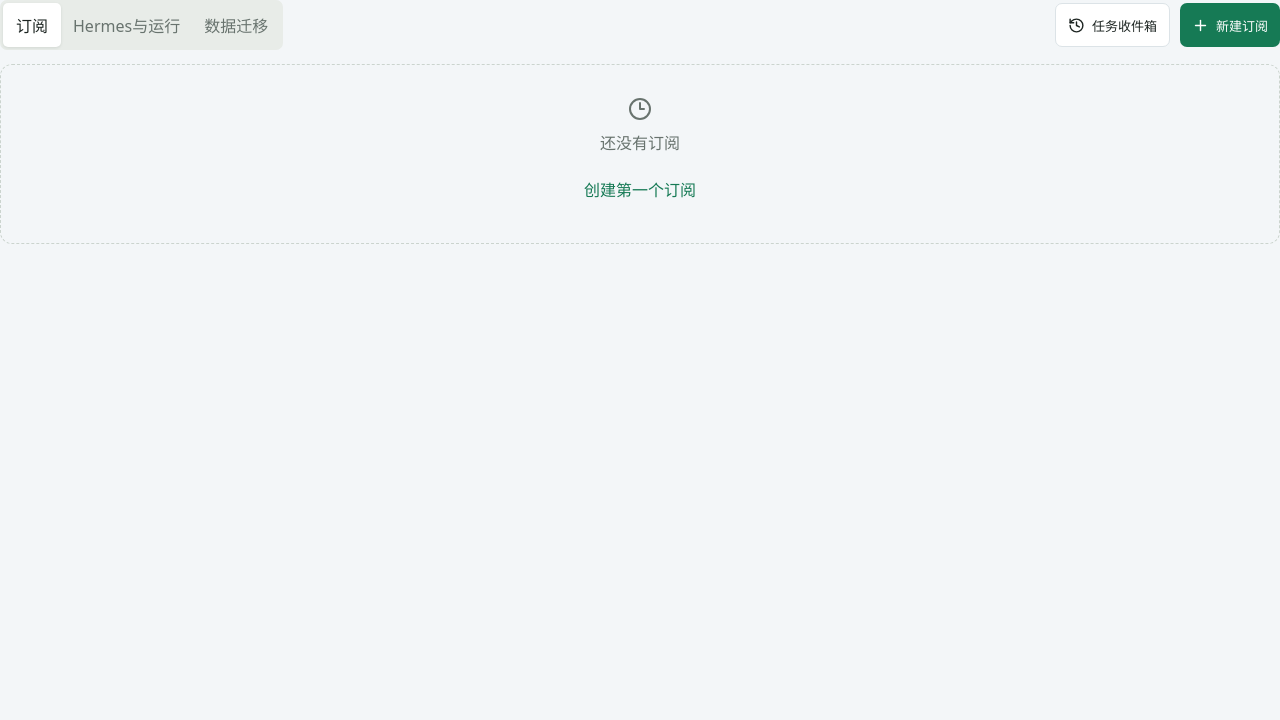
it: Hermes可以生成可编辑订阅草稿
Expected: the text "还没有订阅" is shown, [600, 131, 680, 157]
Click the button "新建订阅" at (1230, 25), box [1180, 3, 1279, 47]
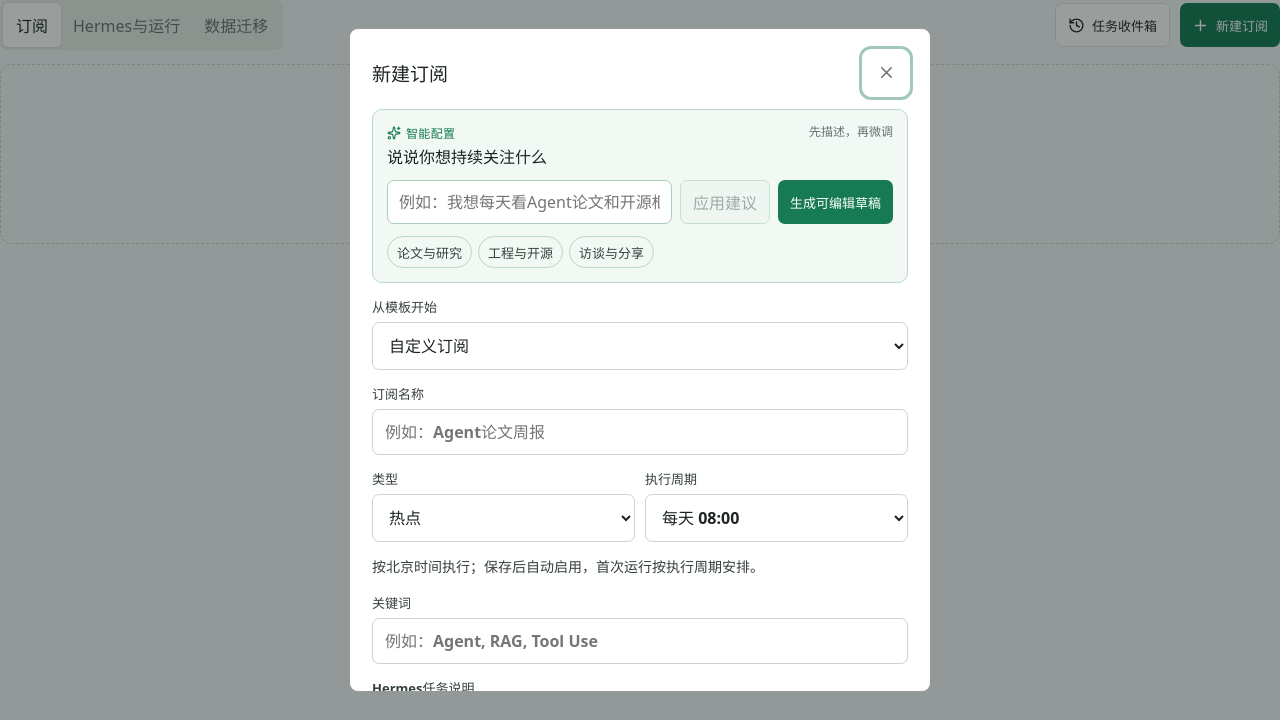
Type "关注Agent论文" into the field named "描述关注目标" at (530, 202), box [387, 180, 672, 224]
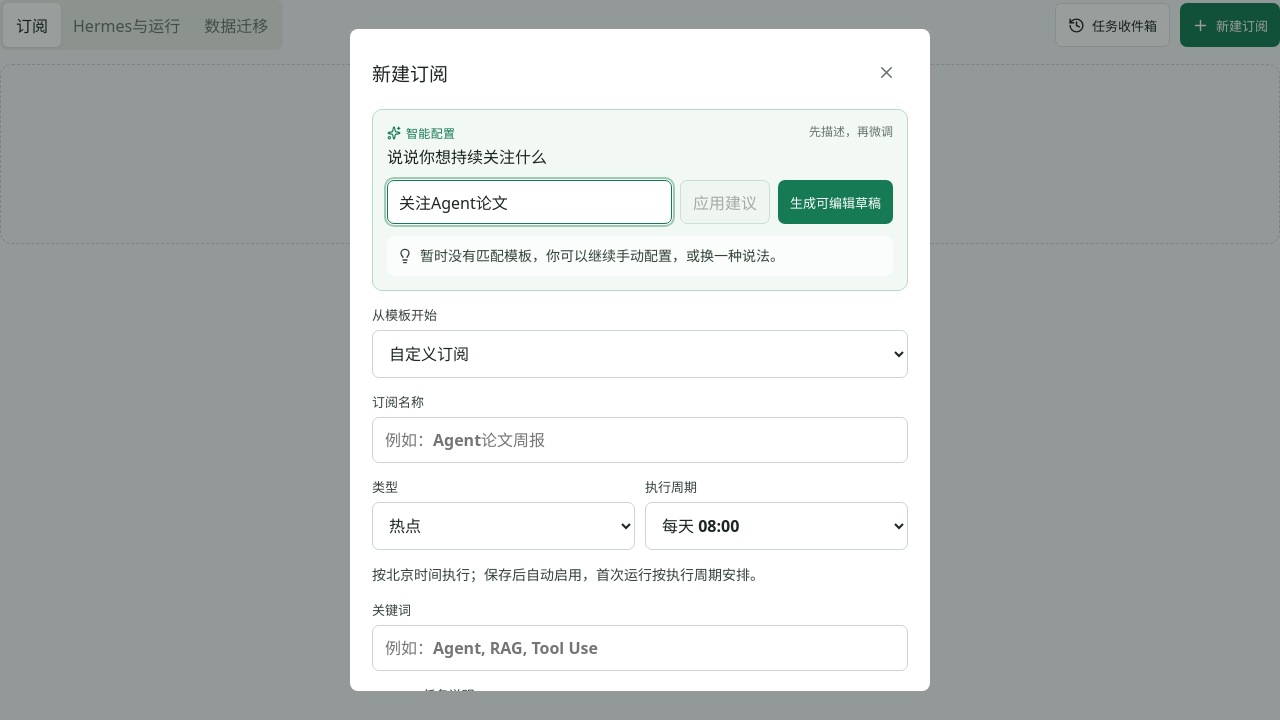
Click the button "生成可编辑草稿" at (836, 202), box [778, 180, 893, 224]
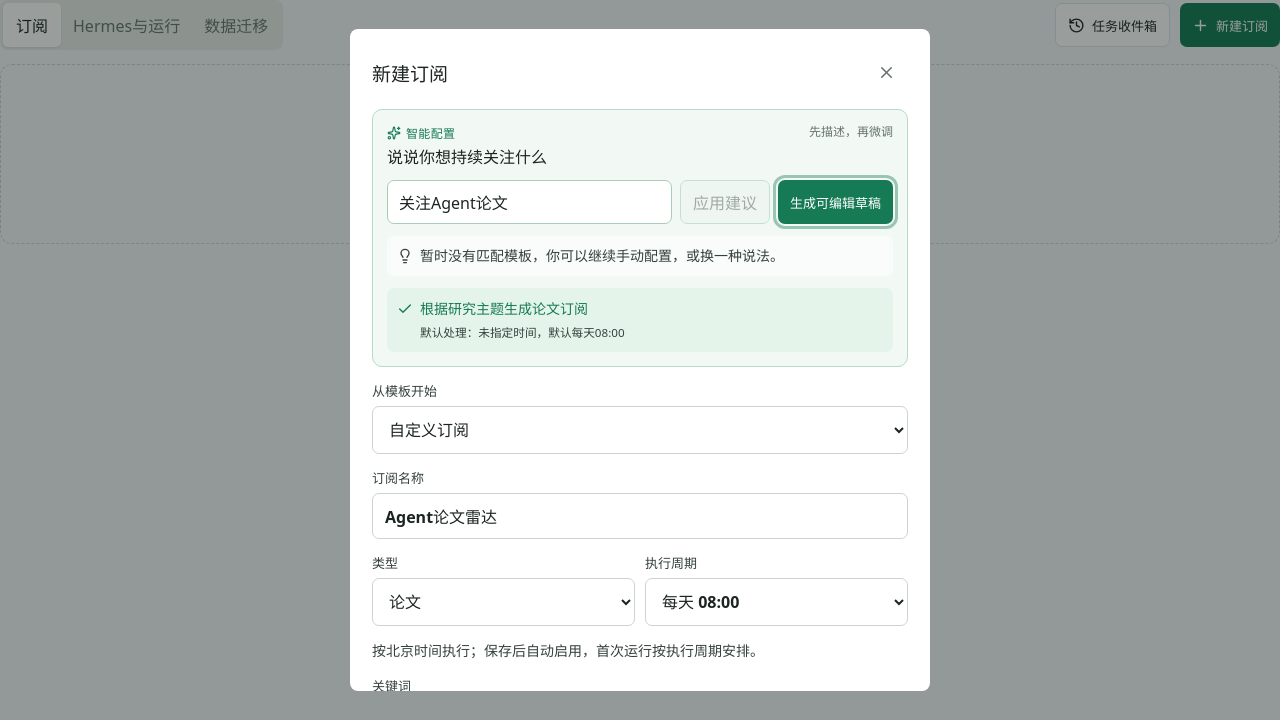
Expected: the field showing "Agent论文雷达" is shown, [372, 493, 908, 539]
Expected: the text "根据研究主题生成论文订阅" is shown, [420, 298, 588, 320]
